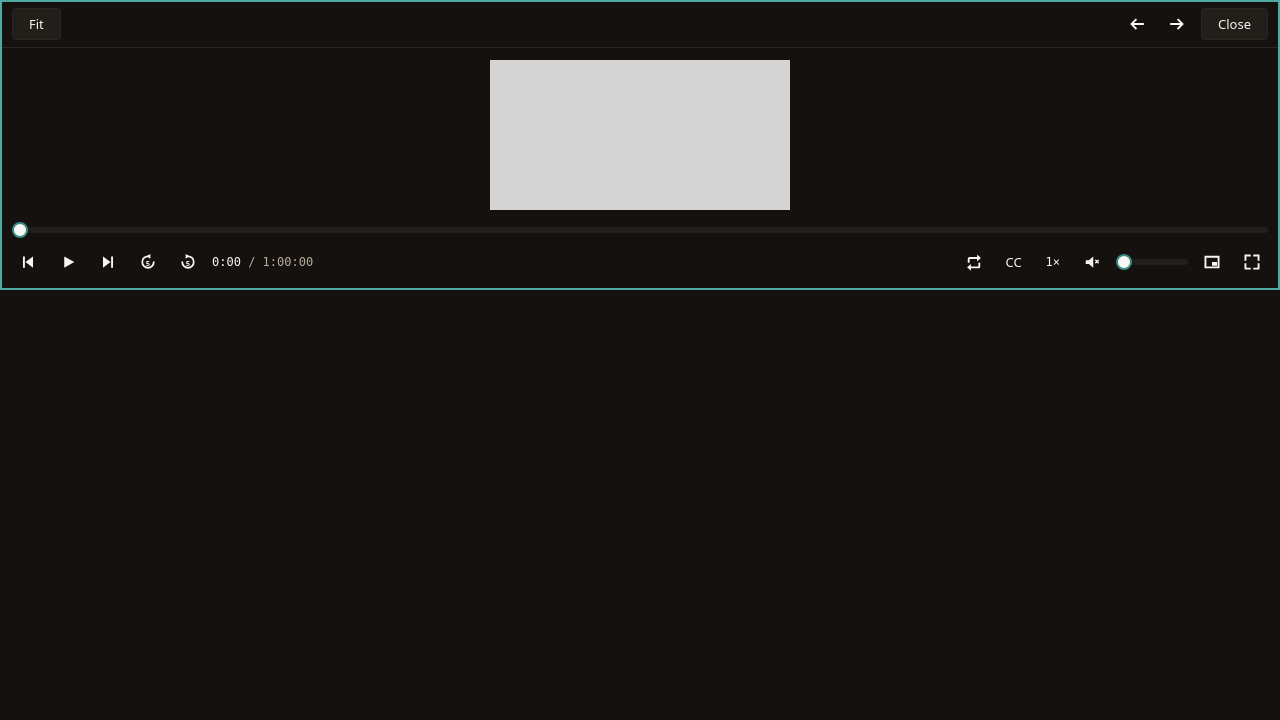
Scenario: what the native bar withholds › says why the extremes are silent rather than looking broken
What coordinates should you click on to do the following:
click the button named "Playback speed"
I would click on:
 (1053, 262)
Its box is [1038,246,1068,278].
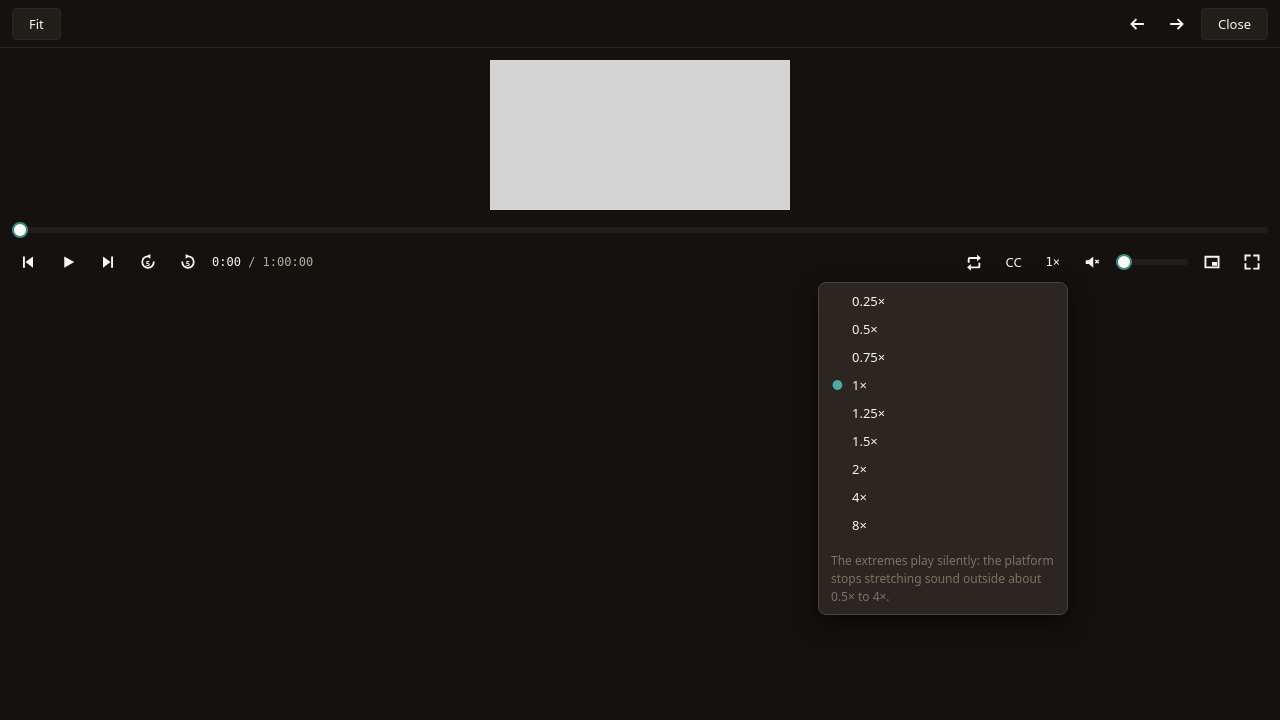
Expected: the menu item "8×" is shown, [852,516,867,534]
